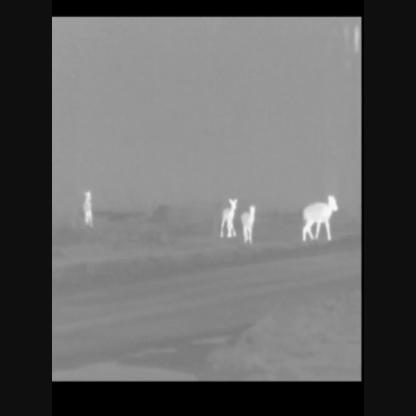rehkitze: (301, 196, 338, 245), (216, 197, 238, 241), (242, 203, 259, 243), (80, 195, 96, 231)
